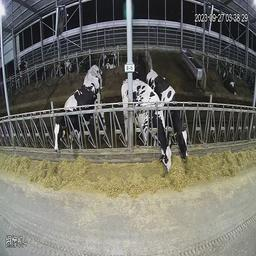cow: (120, 77, 170, 169), (146, 69, 189, 160), (53, 78, 101, 151), (83, 64, 103, 91), (222, 66, 237, 95), (103, 50, 117, 72)
